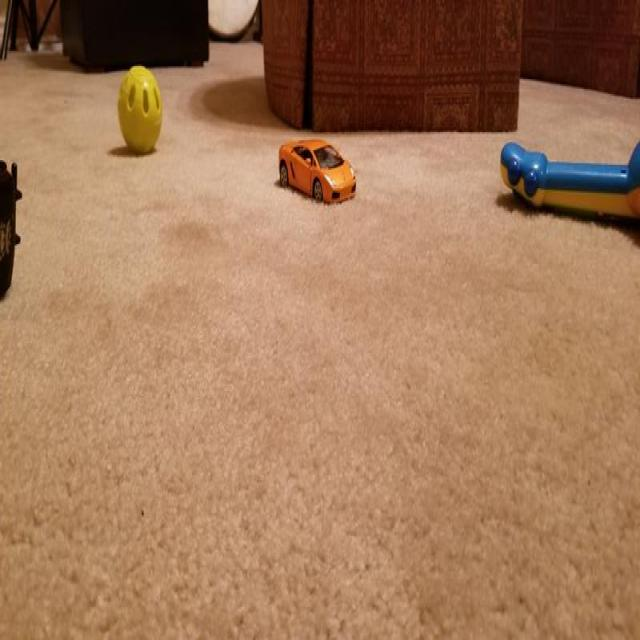toy: (493, 132, 640, 232), (275, 128, 359, 205), (114, 62, 163, 156)
